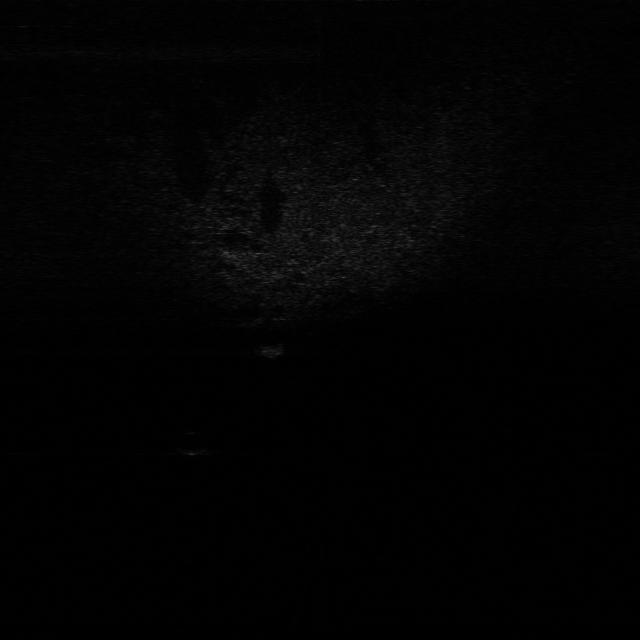ball: (174, 428, 214, 457)
cube: (257, 336, 289, 363)
